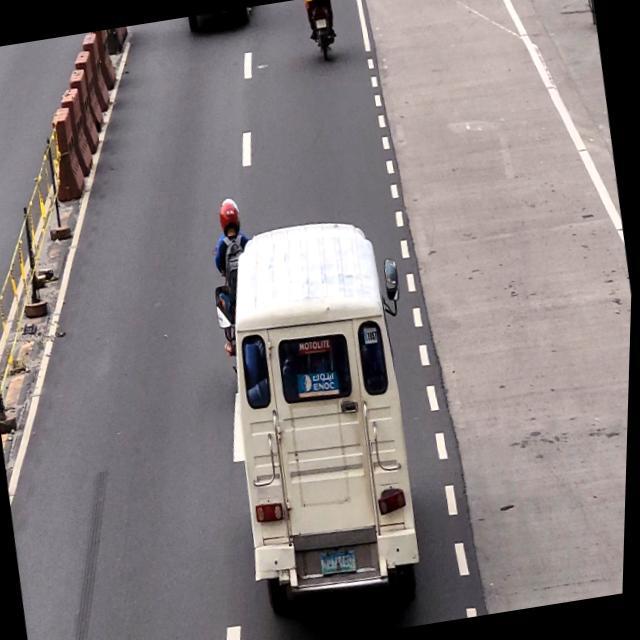Jeep: (215, 209, 433, 620)
License-Plate: (321, 545, 364, 585)
Motorcycle: (299, 0, 341, 70)
